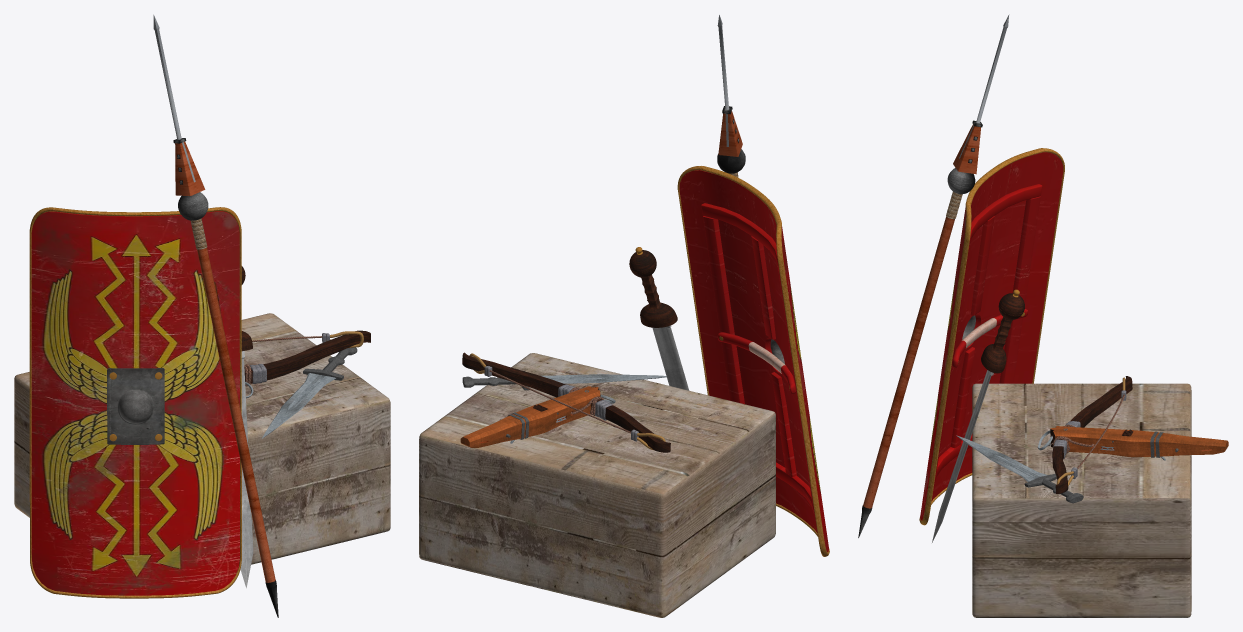
3 views of the same model, side by side, from view 1: azimuth 30°, elevation 25°; view 2: azimuth 150°, elevation 25°; view 3: azimuth 270°, elevation 25° (orthographic). The views are drawn at different scales.
Visible parts, largest first — view 1: Plane.001, Cube.006, Cube.003, Cylinder.001, Plane.002, Cube.007, Cube.001, Cube.002, Cube.004, Cube.005, Sphere.003, Circle.001; view 2: Cube.006, Plane.001, Plane.003, Plane.002, Cube.008, Cube.007, Cube.001, Plane.004, Cube.002, Cube.004, Sphere.001, Sphere (+1 smaller); view 3: Cube.006, Plane.001, Plane.003, Cube.008, Plane.002, Cylinder.001, Cube.007, Cube.001, Cube.002, Cube.004, Plane.004, Cube.005 (+4 smaller).
Part boxes in pixels (box(x1,y1,x2,y2)): Plane.001: box(31, 211, 239, 595); Cube.006: box(14, 313, 390, 564); Cube.003: box(107, 368, 164, 444); Cylinder.001: box(193, 225, 275, 582); Plane.002: box(29, 207, 241, 598); Cube.007: box(244, 330, 370, 383); Cube.001: box(240, 351, 253, 588); Cube.002: box(262, 373, 335, 438); Cube.004: box(175, 141, 205, 195); Cube.005: box(153, 14, 195, 182); Sphere.003: box(178, 192, 208, 220); Circle.001: box(303, 347, 357, 380); Cube.006: box(419, 353, 775, 617); Plane.001: box(679, 170, 828, 552); Plane.003: box(701, 203, 815, 517); Plane.002: box(677, 166, 829, 556); Cube.008: box(460, 386, 600, 447); Cube.007: box(462, 352, 670, 452); Cube.001: box(652, 325, 689, 390); Plane.004: box(717, 332, 796, 393); Cube.002: box(540, 374, 666, 383); Cube.004: box(718, 111, 742, 156); Sphere.001: box(640, 302, 677, 327); Sphere: box(629, 250, 656, 277); Cube.006: box(972, 383, 1191, 617); Plane.001: box(920, 152, 1063, 520); Plane.003: box(933, 184, 1042, 486); Cube.008: box(1050, 426, 1228, 457); Plane.002: box(919, 148, 1064, 525); Cylinder.001: box(863, 217, 954, 508); Cube.007: box(1052, 376, 1132, 493); Cube.001: box(932, 370, 993, 542); Cube.002: box(956, 435, 1047, 481); Cube.004: box(953, 124, 980, 174); Plane.004: box(952, 309, 1027, 367); Cube.005: box(959, 14, 1009, 158).
Bounding box in the file's own units: 541 × 798 × 527.
19 materials, 19 textured.
